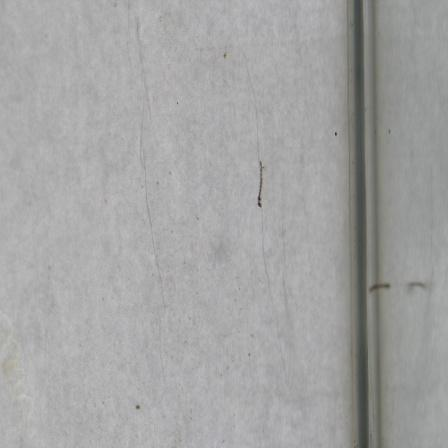Jentik-Nyamuk: (253, 158, 268, 213)
